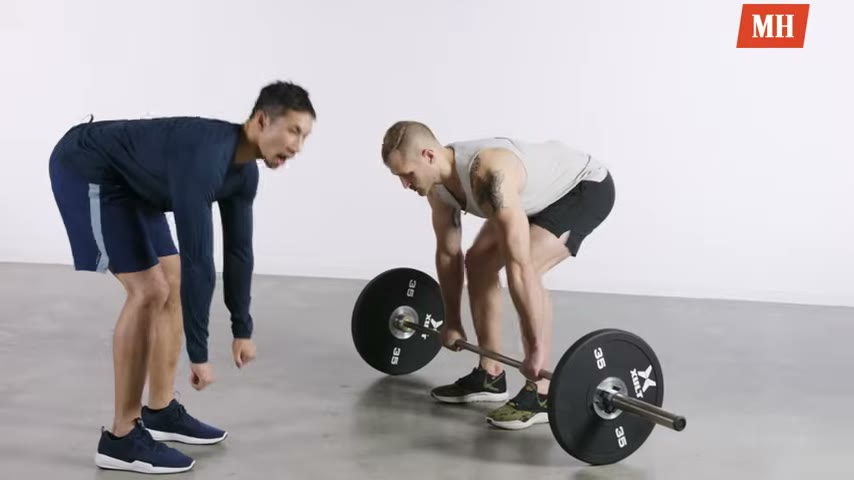barbell_plate_side: (344, 266, 438, 466), (598, 314, 692, 470)
